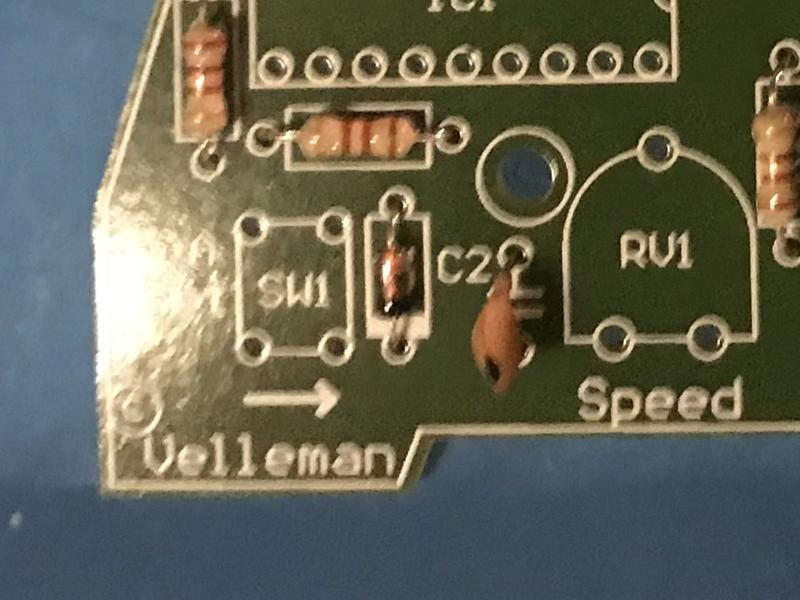Diode: (372, 237, 425, 331)
Resistor: (176, 18, 238, 137), (291, 112, 424, 160), (753, 97, 798, 227)
